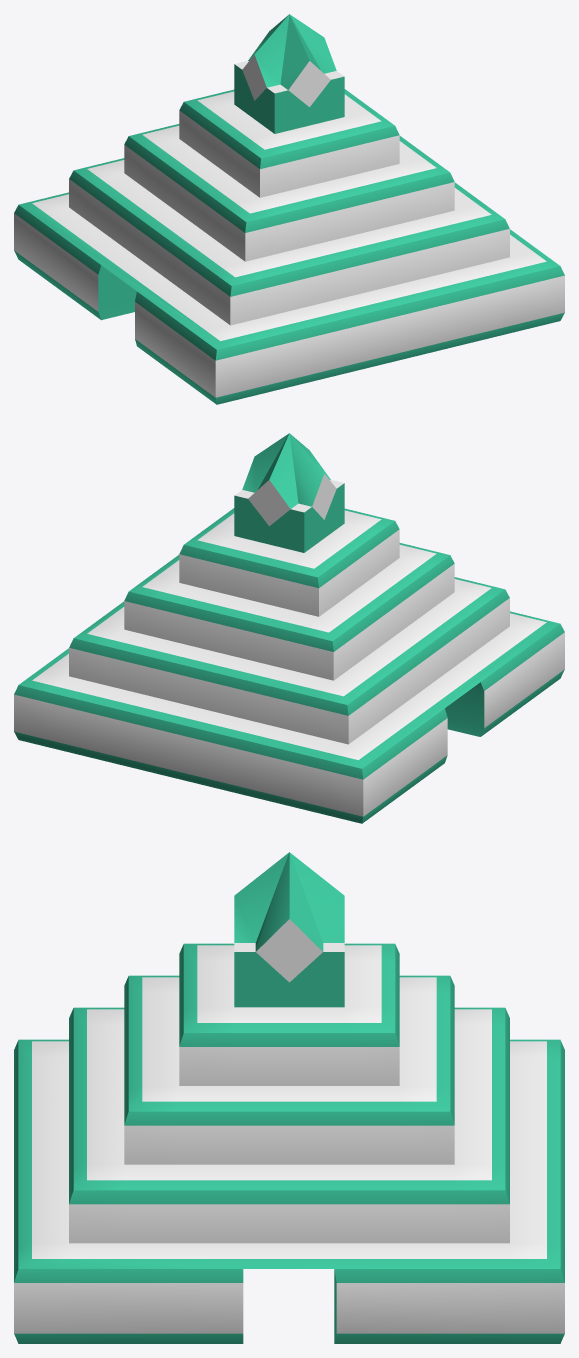
File: Temple 6.fbx
The picture shows the model from 3 angles, top to bottom: view 1: azimuth 30°, elevation 25°; view 2: azimuth 150°, elevation 25°; view 3: azimuth 270°, elevation 25°; orthographic projection. The views are drawn at different scales.
Parts seen in each view (by area): view 1: Temple 6; view 2: Temple 6; view 3: Temple 6.
Part boxes in pixels (bbox=[...]): Temple 6: bbox=[14, 14, 564, 404]; Temple 6: bbox=[14, 433, 564, 823]; Temple 6: bbox=[14, 852, 564, 1343].
Bounding box in the file's own units: 60 × 45.33 × 60.
Materials: 2 (2 with a texture image).
